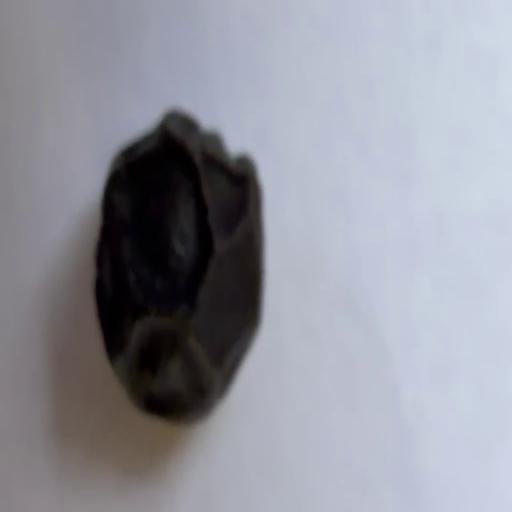Black_pepper: (83, 94, 268, 436)
